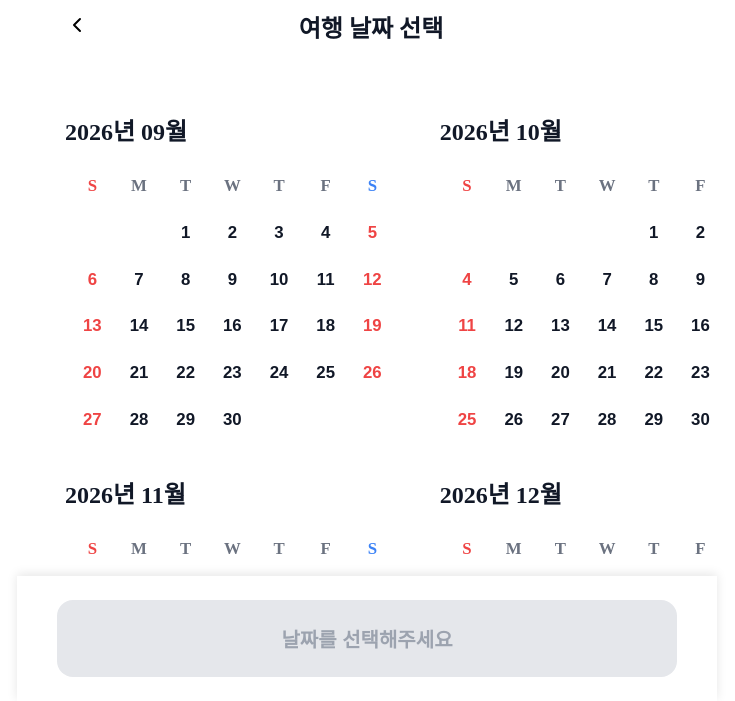
Test: TravelDatePicker (schedule) › 날짜 선택 › 날짜를 클릭하면 '선택 완료' 버튼이 나타난다
현재 월의 15일 클릭 (대부분의 달에 15일이 존재)
Click the button "15" below "2026년 09월" at (186, 326), box left=170, top=311, right=201, bottom=342
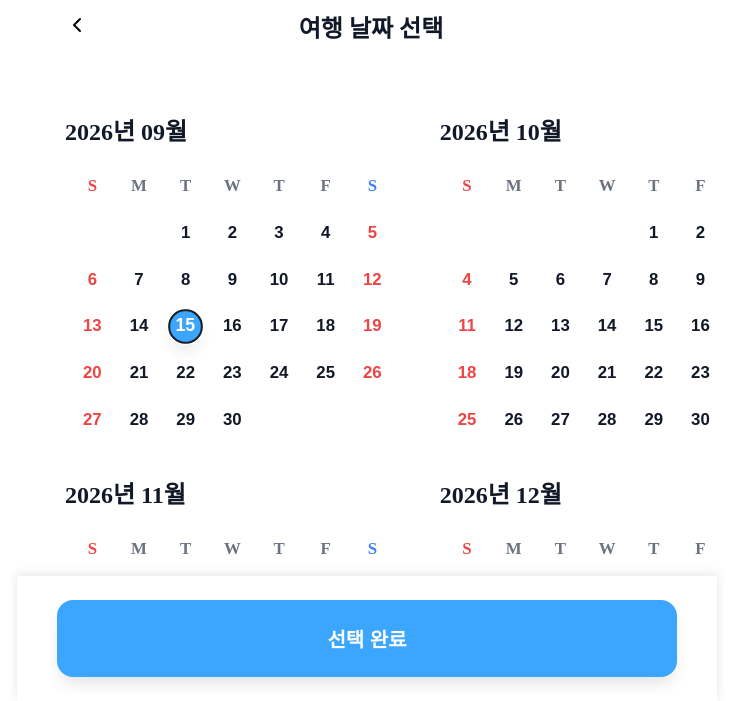
Now the button "선택 완료" is shown, box left=57, top=600, right=677, bottom=677
